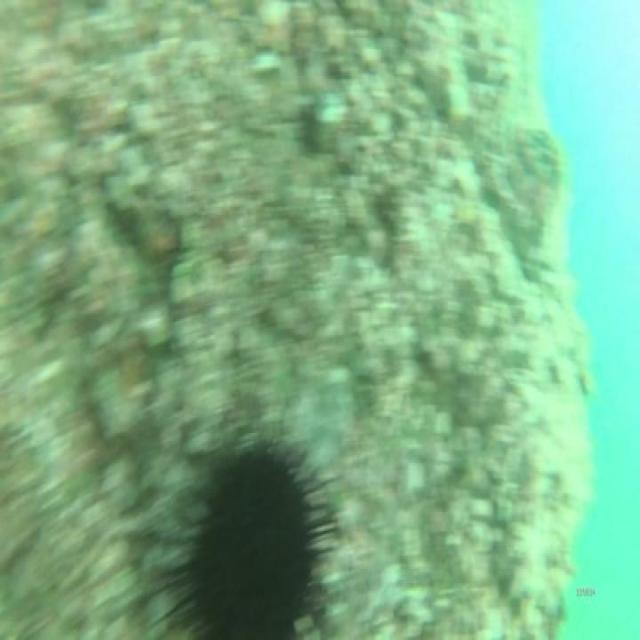echinus: (183, 441, 332, 640)
